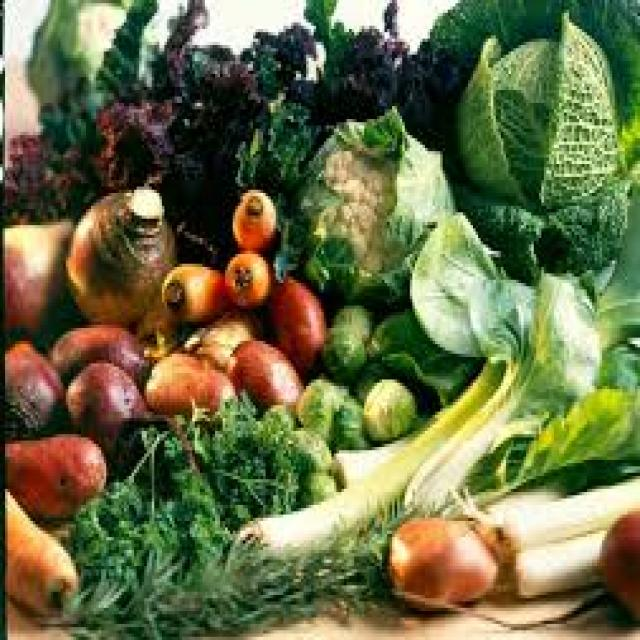organic waste: (225, 206, 638, 576), (94, 0, 314, 267), (418, 0, 638, 222), (453, 3, 627, 277), (291, 103, 448, 302), (448, 460, 637, 598), (76, 482, 225, 637), (301, 0, 471, 135), (202, 518, 387, 630), (64, 180, 170, 331), (478, 389, 638, 489), (511, 267, 602, 434), (402, 206, 498, 357), (184, 396, 308, 512), (22, 0, 136, 125), (0, 74, 91, 215), (144, 434, 246, 550), (382, 508, 498, 608), (2, 482, 76, 618), (592, 177, 637, 383), (2, 209, 71, 338), (2, 431, 104, 518), (61, 354, 167, 437), (142, 341, 232, 421), (2, 335, 66, 434), (225, 335, 301, 418), (263, 260, 321, 366), (46, 318, 144, 376), (461, 270, 518, 367), (182, 312, 261, 373), (597, 505, 637, 614), (359, 373, 415, 437), (159, 261, 220, 315), (228, 183, 276, 248), (220, 248, 271, 302), (294, 373, 336, 434), (326, 383, 362, 447), (321, 322, 362, 373), (278, 428, 329, 460), (298, 466, 334, 498), (332, 302, 369, 332), (253, 405, 288, 434)
